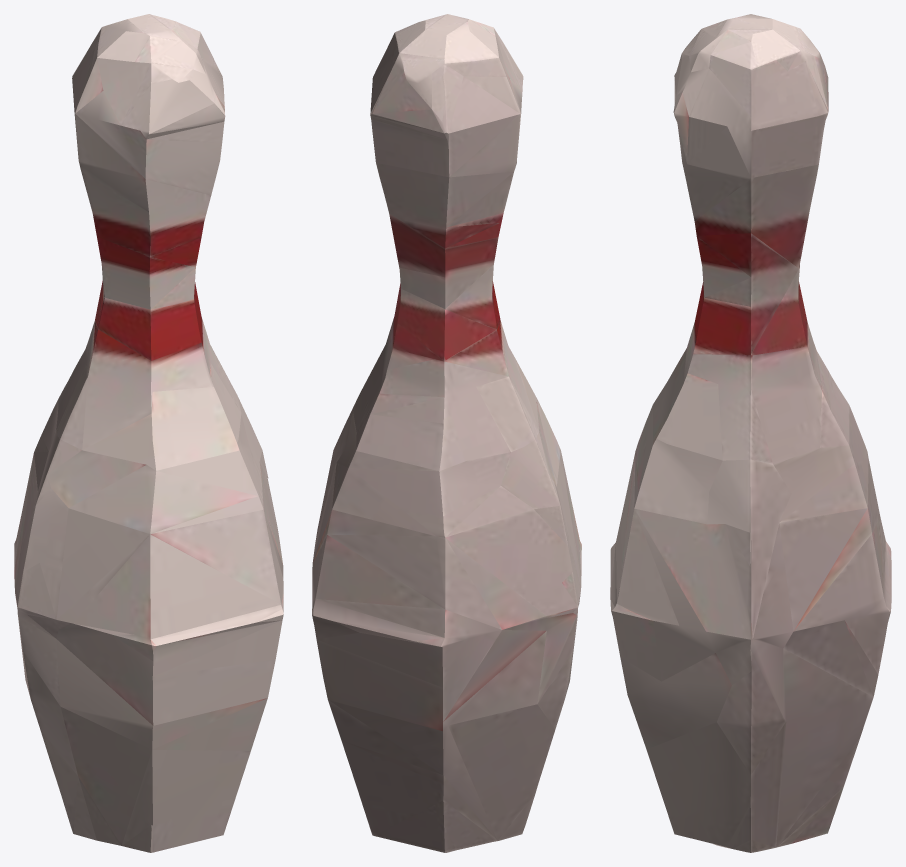
Rendered from pin.glb.
The picture shows the model from 3 angles, left to right: view 1: azimuth 30°, elevation 25°; view 2: azimuth 150°, elevation 25°; view 3: azimuth 270°, elevation 25°; orthographic projection.
Bounding box in the file's own units: 0.6509 × 1.9 × 0.6029.
Materials: 1 (1 with a texture image).
